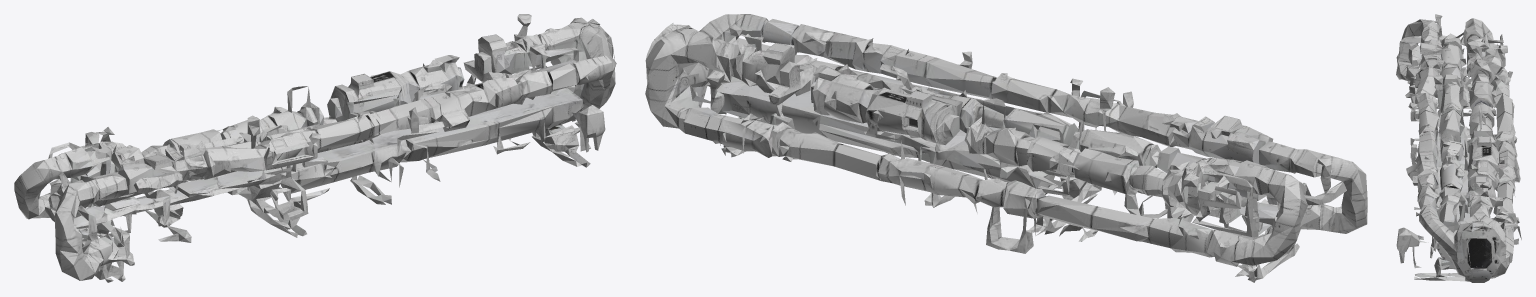
File: pipe_module.glb
3 renders of one model, left to right at view 1: azimuth 30°, elevation 25°; view 2: azimuth 150°, elevation 25°; view 3: azimuth 270°, elevation 25°, orthographic. The views are drawn at different scales.
Parts seen in each view (by area): view 1: output_unwrapped; view 2: output_unwrapped; view 3: output_unwrapped.
Boxes of the visible parts, x1,y1,x2,y2 form: output_unwrapped: [14, 14, 616, 282]; output_unwrapped: [645, 14, 1367, 282]; output_unwrapped: [1396, 14, 1521, 282].
Bounding box in the file's own units: 1.9 × 0.3772 × 0.4638.
1 material, 1 textured.
